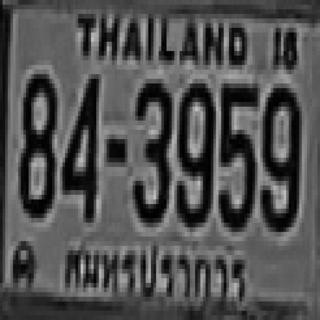N03: (132, 79, 170, 223)
N04: (60, 70, 99, 218)
N05: (217, 79, 256, 227)
N08: (18, 70, 55, 213)
N09: (260, 83, 299, 227), (176, 79, 212, 223)
P57: (55, 233, 254, 314)
